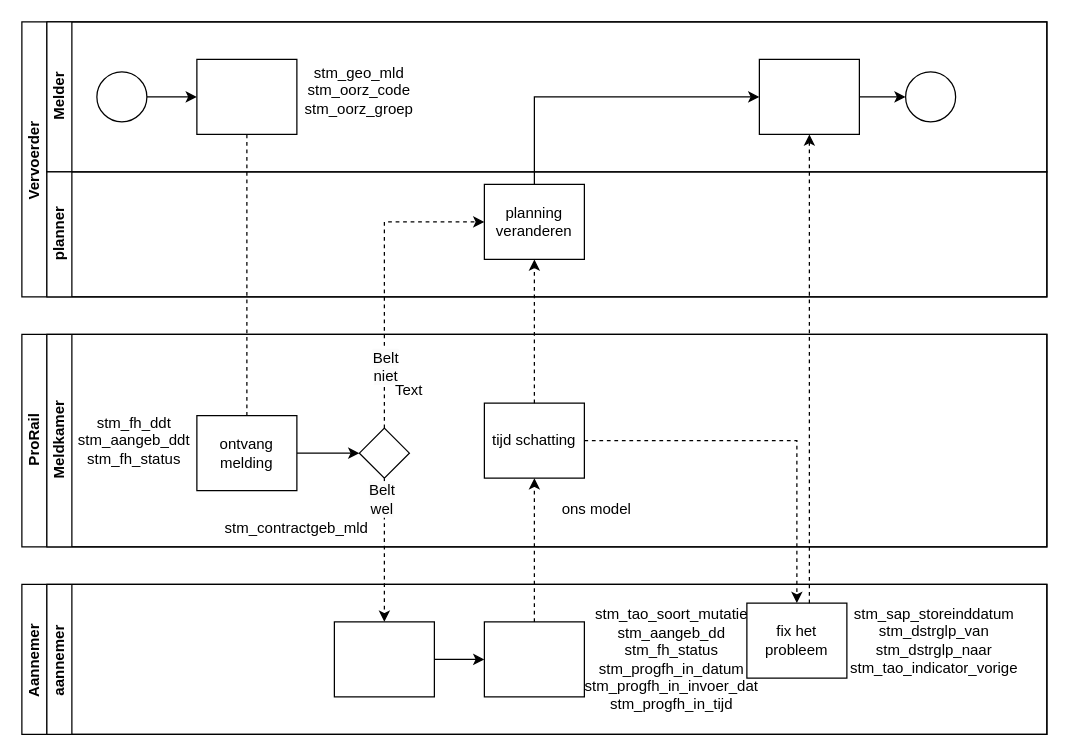
Image size: 1069x756. Some labels were removed from this diagram. The centre of each missing label's shape, as x and y in pixels:
eind: (930,96)
gaat naar probleem: (383,659)
melding: (246,96)
prognose: (533,659)
start: (121,96)
treinen rijden weer: (808,96)
